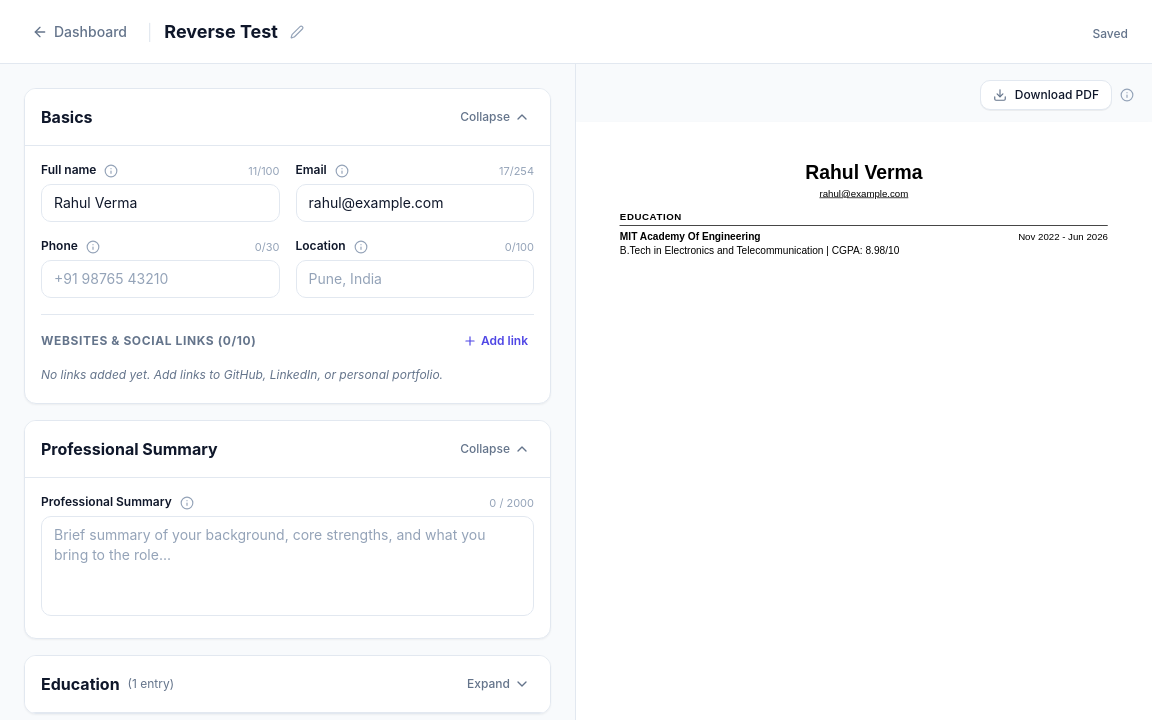
Scenario: Grade Type Switch & Hint (Part 2) › handles reverse switch from CGPA back to Percentage
Expected: the heading "Reverse Test" is shown, [164,18,278,46]
Click the button "Expand" at coordinates (499, 684), box [463,672,534,696]
(page scrolled)
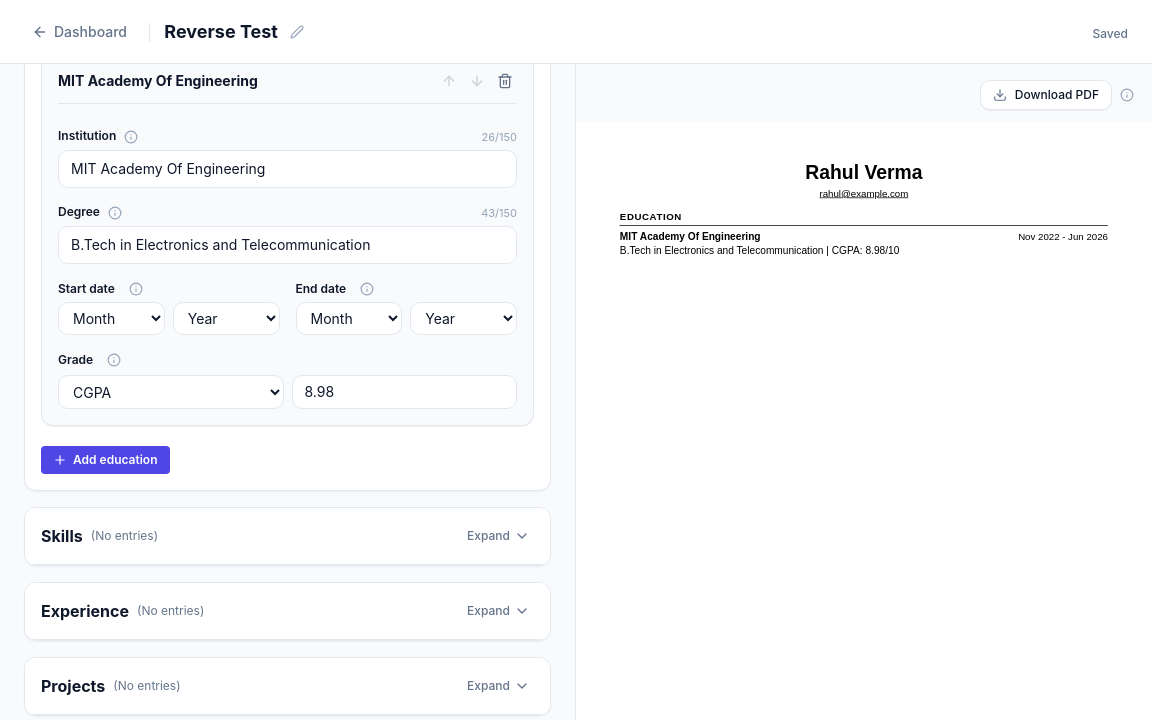
Expected: the dropdown named "grade type" shows "CGPA"
Select "Percentage" in the dropdown named "grade type" at coordinates (171, 392), box [58,375,284,409]
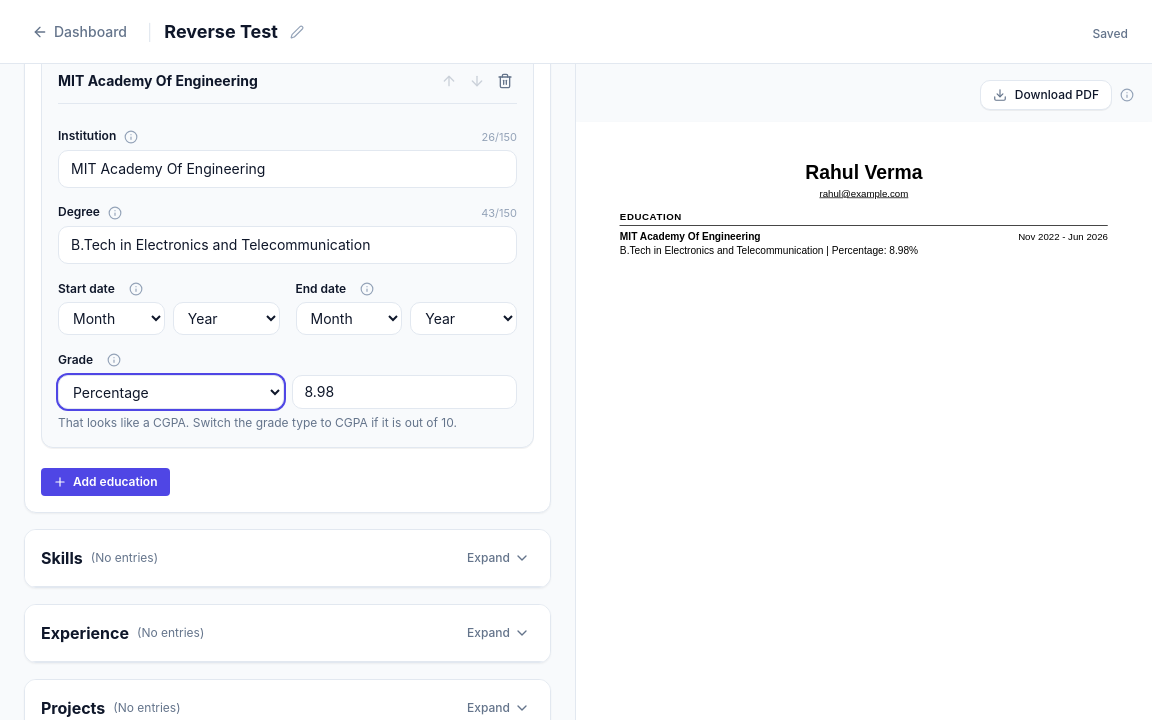
Expected: the text "Percentage: 8.98%" is shown, [620,244,918,256]
